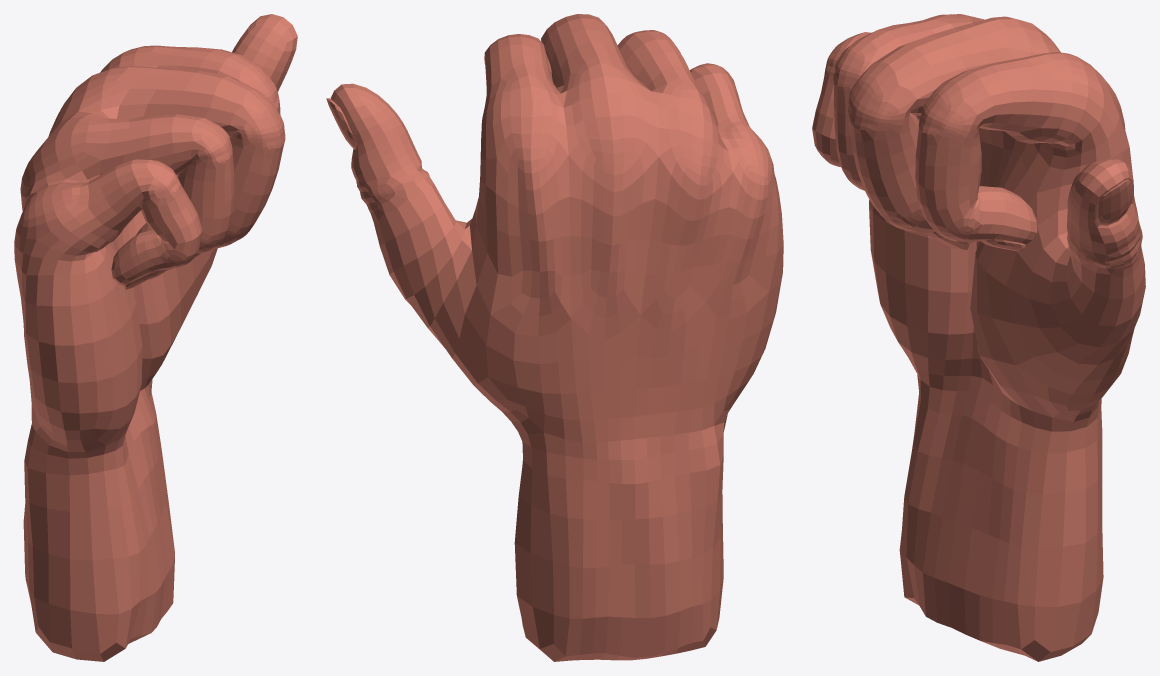
Rendered from swaad.glb.
The picture shows the model from 3 angles, left to right: view 1: azimuth 30°, elevation 25°; view 2: azimuth 150°, elevation 25°; view 3: azimuth 270°, elevation 25°; orthographic projection. The views are drawn at different scales.
Parts seen in each view (by area): view 1: ZBrushPolyMesh3D; view 2: ZBrushPolyMesh3D; view 3: ZBrushPolyMesh3D.
Part boxes in pixels (left/top/right/bottom): ZBrushPolyMesh3D: left=14, top=14, right=297, bottom=661; ZBrushPolyMesh3D: left=326, top=14, right=783, bottom=661; ZBrushPolyMesh3D: left=812, top=14, right=1145, bottom=661.
Size of the model in its own units: 2.5 by 3.81 by 1.84.
